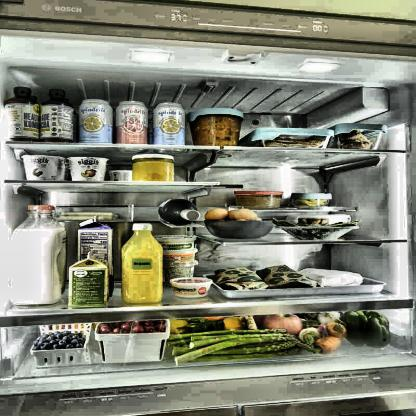apple: (264, 314, 302, 333)
blueberries: (41, 333, 82, 348)
cream_cheese: (172, 276, 212, 297)
eggs: (233, 209, 258, 220), (206, 209, 229, 220)
green_bell_pepper: (342, 311, 390, 345)
milk: (8, 205, 66, 305), (80, 217, 114, 262)
pickles: (295, 198, 328, 206)
sweet_potato: (313, 336, 339, 353), (326, 323, 346, 336)
yoghurt: (67, 156, 109, 182), (22, 156, 66, 180)
